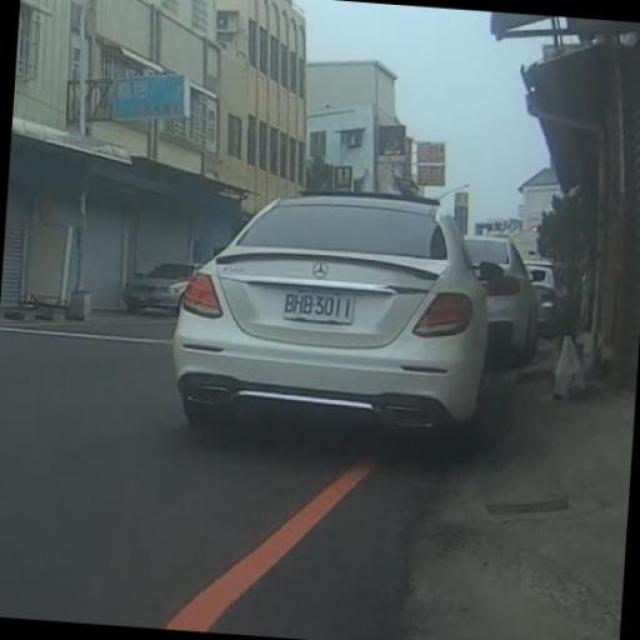illegalparking: (144, 146, 583, 534)
